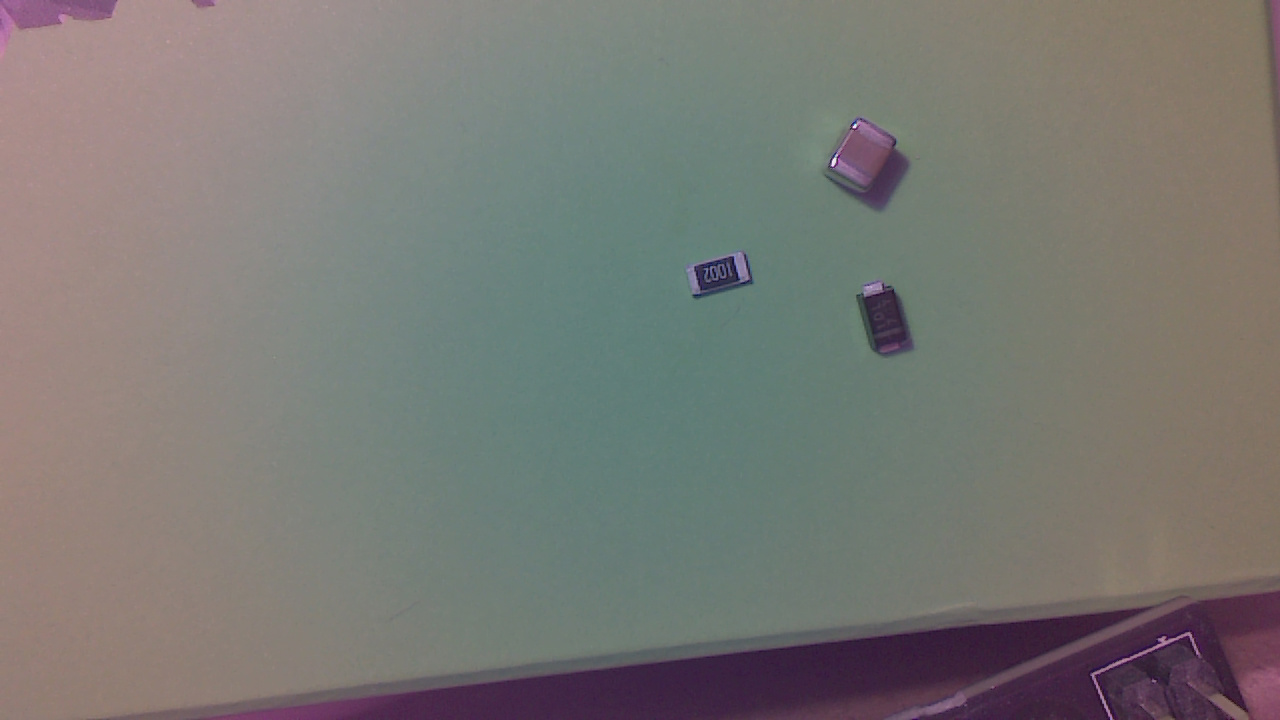Condensator: (824, 122, 904, 200)
Diode: (860, 285, 914, 363)
Resistor: (689, 256, 757, 306)
